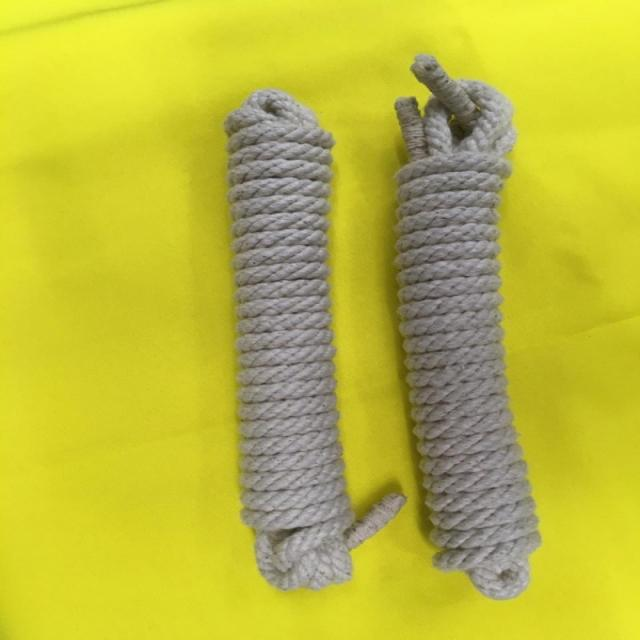Rope: (372, 45, 576, 607), (209, 85, 402, 598)
